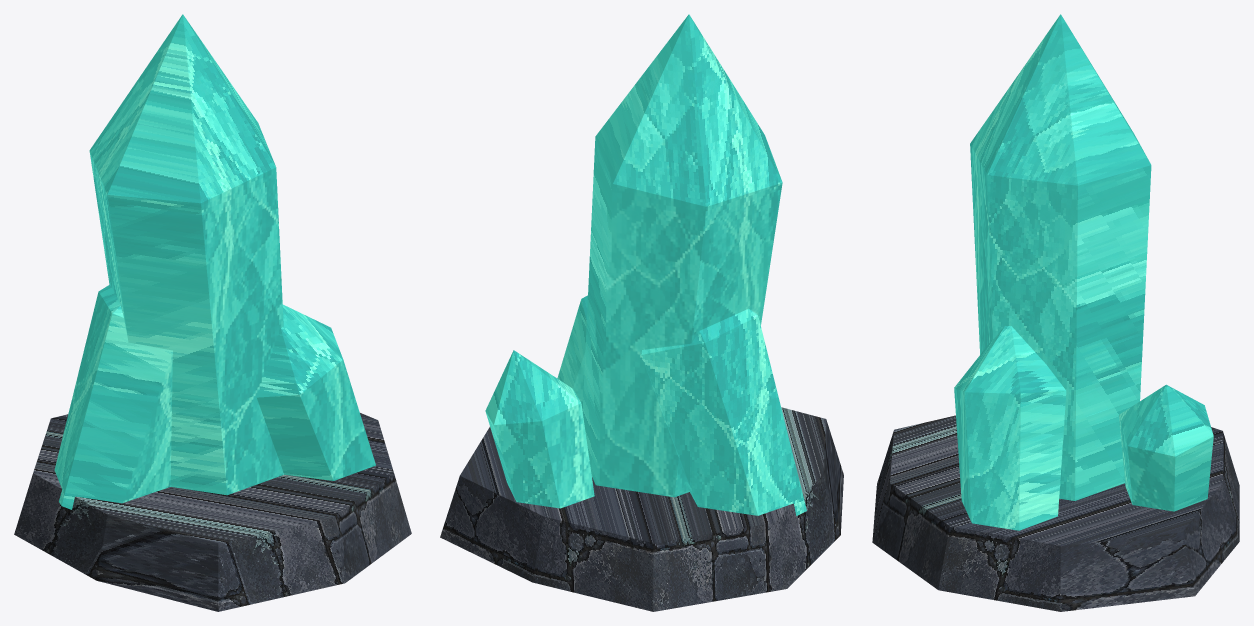
Rendered from moon_crystal.glb.
3 renders of one model, left to right at view 1: azimuth 30°, elevation 25°; view 2: azimuth 150°, elevation 25°; view 3: azimuth 270°, elevation 25°, orthographic. The views are drawn at different scales.
Parts seen in each view (by area): view 1: MoonCrystalFacets, MoonCrystalBedrock; view 2: MoonCrystalFacets, MoonCrystalBedrock; view 3: MoonCrystalFacets, MoonCrystalBedrock.
Part boxes in pixels (x1,y1,x2,y2): MoonCrystalFacets: (54, 14, 375, 509); MoonCrystalBedrock: (14, 413, 411, 611); MoonCrystalFacets: (485, 14, 806, 515); MoonCrystalBedrock: (440, 407, 843, 611); MoonCrystalFacets: (954, 14, 1213, 530); MoonCrystalBedrock: (872, 415, 1239, 611).
Bounding box in the file's own units: 0.8413 × 1.2 × 0.8003.
Materials: 2 (2 with a texture image).
